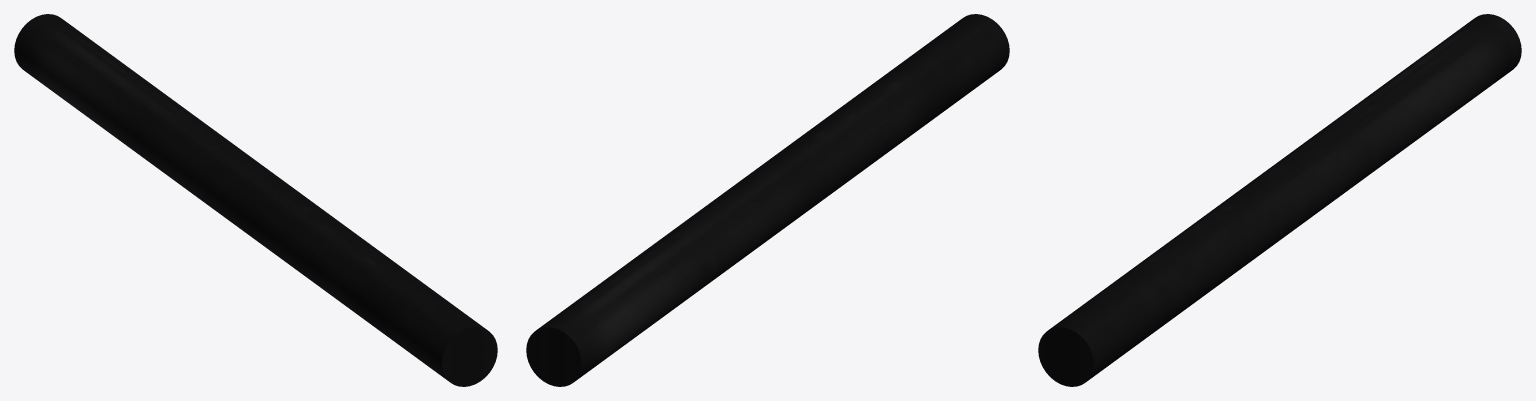
The model's file is right_piston_rod.obj.
3 views of the same model, side by side, from view 1: azimuth 30°, elevation 25°; view 2: azimuth 150°, elevation 25°; view 3: azimuth 330°, elevation 25° (orthographic).
Visible parts, largest first — view 1: Cylinder.001; view 2: Cylinder.001; view 3: Cylinder.001.
Boxes of the visible parts, bbox=[...] form: Cylinder.001: bbox=[14, 14, 497, 386]; Cylinder.001: bbox=[526, 14, 1009, 386]; Cylinder.001: bbox=[1038, 14, 1521, 386].
Bounding box in the file's own units: 0.0265 × 0.0265 × 0.3529.
